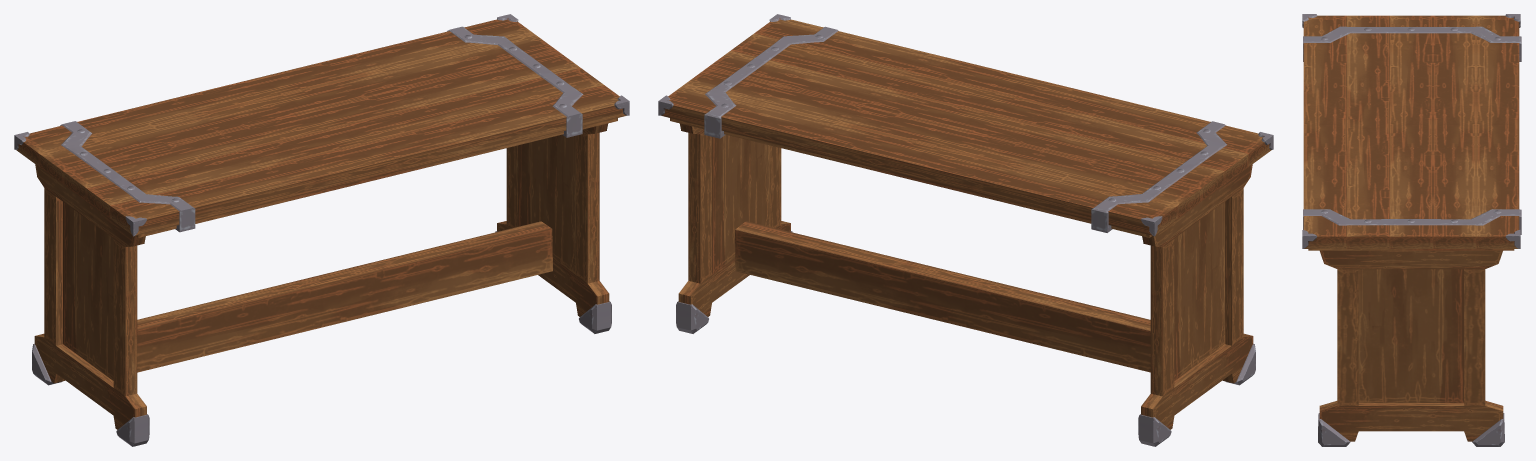
Rendered from Desk.fbx.
3 renders of one model, left to right at view 1: azimuth 30°, elevation 25°; view 2: azimuth 150°, elevation 25°; view 3: azimuth 270°, elevation 25°, orthographic. The views are drawn at different scales.
Visible parts, largest first — view 1: Desk; view 2: Desk; view 3: Desk.
Part boxes in pixels (x1=…): Desk: x1=14, y1=14, x2=629, y2=446; Desk: x1=658, y1=14, x2=1273, y2=446; Desk: x1=1302, y1=14, x2=1521, y2=446.
Bounding box in the file's own units: 186 × 84.38 × 77.89.
